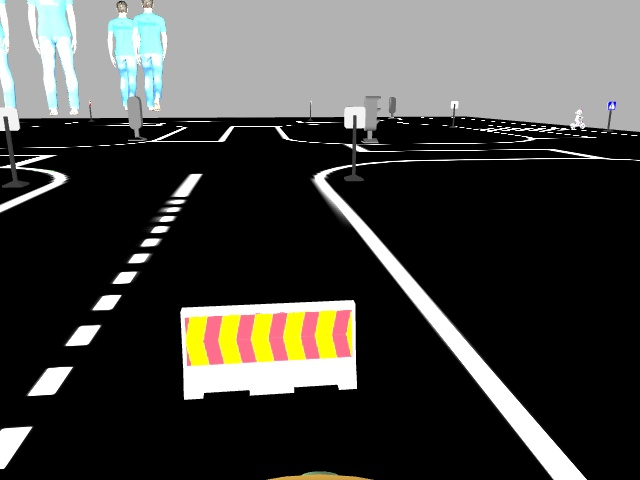ClosedRoadStand: (178, 309, 357, 382)
